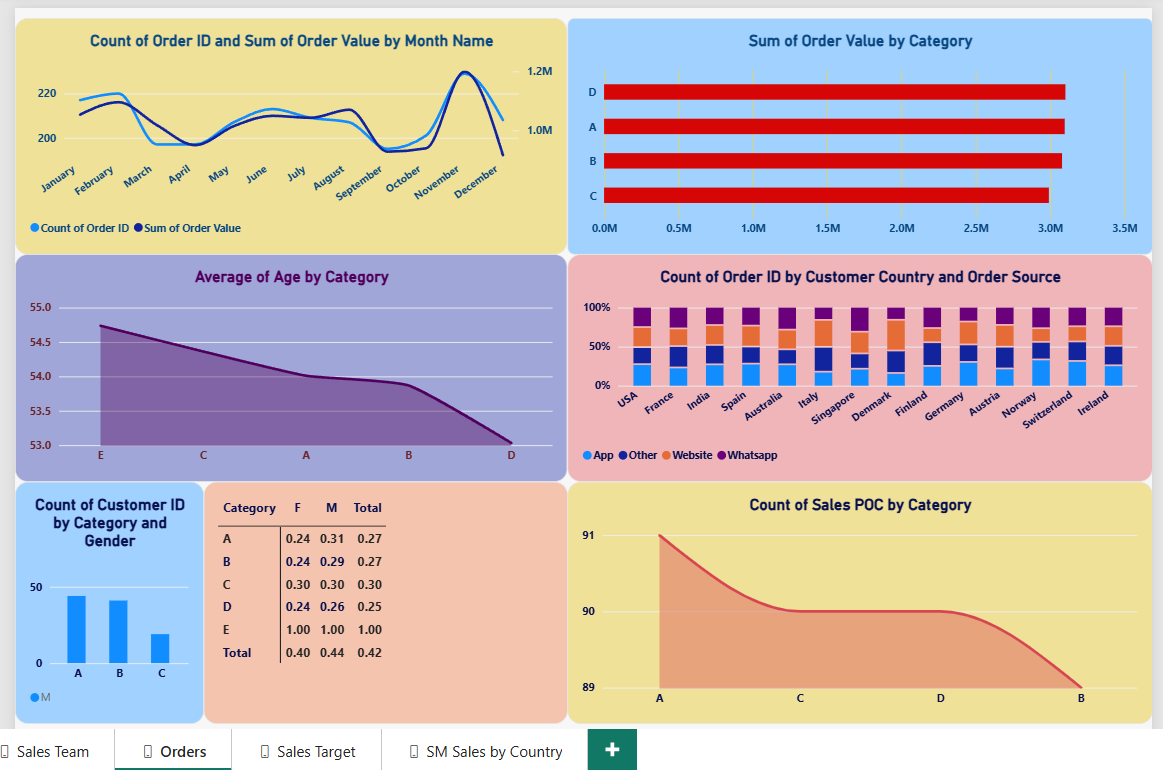

This screenshot's page, from the dashboard's own definition file:
{"tool":"powerbi","page":{"name":"Orders ","canvas":[1300,900],"ordinal":1},"visuals":[{"type":"lineChart","fields":{"Category":["Calender.Date hierarchy.Year","Calender.Date hierarchy.Month Name","Calender.Day"],"Y":["CountNonNull(Orders.Order ID)"],"Y2":["Sum(Orders.Order Value)"]},"box":[0,11.4,631.4,270],"z":0},{"type":"areaChart","fields":{"Category":["Customers.Category"],"Y":["CountNonNull(Sales Targets.Sales POC)"]},"box":[631.4,541.4,668.6,277.1],"z":1000},{"type":"clusteredBarChart","fields":{"Category":["Customers.Category"],"Y":["Sum(Orders.Order Value)"]},"box":[631.4,11.4,668.6,270],"z":2000},{"type":"pivotTable","fields":{"Columns":["Customers.Gender"],"Rows":["Customers.Category"],"Values":["Customers.% Customers Did Not Ordered"]},"box":[215.7,541.4,415.7,277.1],"z":3000},{"type":"hundredPercentStackedColumnChart","fields":{"Category":["Customers.Customer Country"],"Series":["Orders.Order Source"],"Y":["CountNonNull(Orders.Order ID)"]},"box":[631.4,281.4,668.6,260],"z":4000},{"type":"columnChart","fields":{"Category":["Customers.Category"],"Series":["Customers.Gender"],"Y":["CountNonNull(Customers.Customer ID)"]},"box":[0,541.4,215.7,277.1],"z":5000},{"type":"lineChart","fields":{"Category":["Customers.Category"],"Y":["Avg(Customers.Age)"]},"box":[0,281.4,631.4,260],"z":6000}]}

Visuals, with their boxes on the page's 1300x900 design canvas (x1, y1, x2, y2). These are canvas units, not pixel positions in the 1163x770 screenshot, which may show the page scaled, cropped or inside an application window:
lineChart - Calender.Date hierarchy.Year x Calender.Date hierarchy.Month Name: rect(0, 11, 631, 281)
areaChart - Customers.Category x CountNonNull(Sales Targets.Sales POC): rect(631, 541, 1300, 818)
clusteredBarChart - Customers.Category x Sum(Orders.Order Value): rect(631, 11, 1300, 281)
pivotTable - Customers.Gender x Customers.Category: rect(216, 541, 631, 818)
hundredPercentStackedColumnChart - Customers.Customer Country x Orders.Order Source: rect(631, 281, 1300, 541)
columnChart - Customers.Category x Customers.Gender: rect(0, 541, 216, 818)
lineChart - Customers.Category x Avg(Customers.Age): rect(0, 281, 631, 541)
